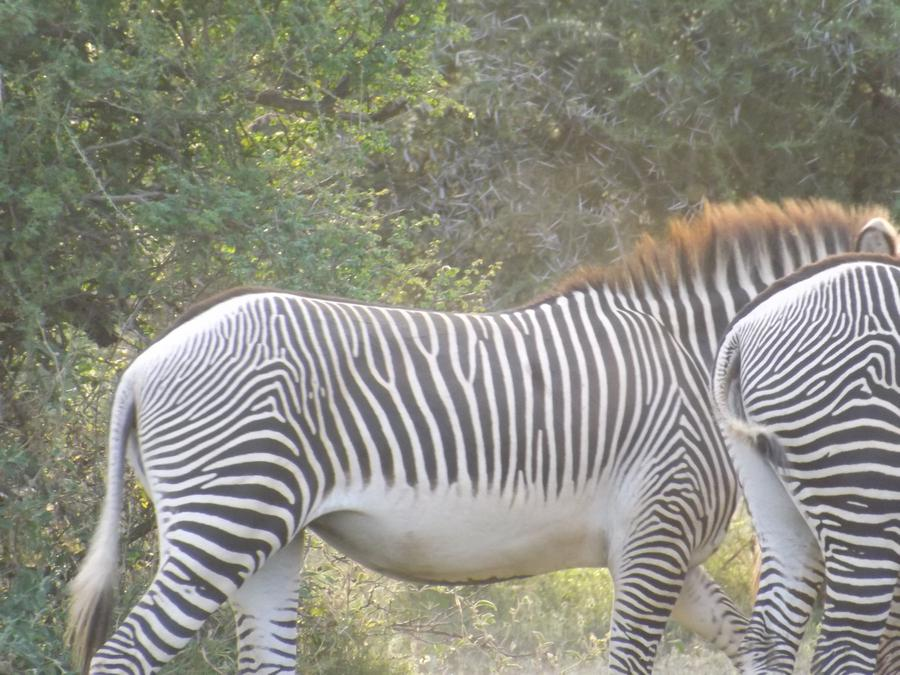zebra_grevys: (104, 275, 717, 557)
